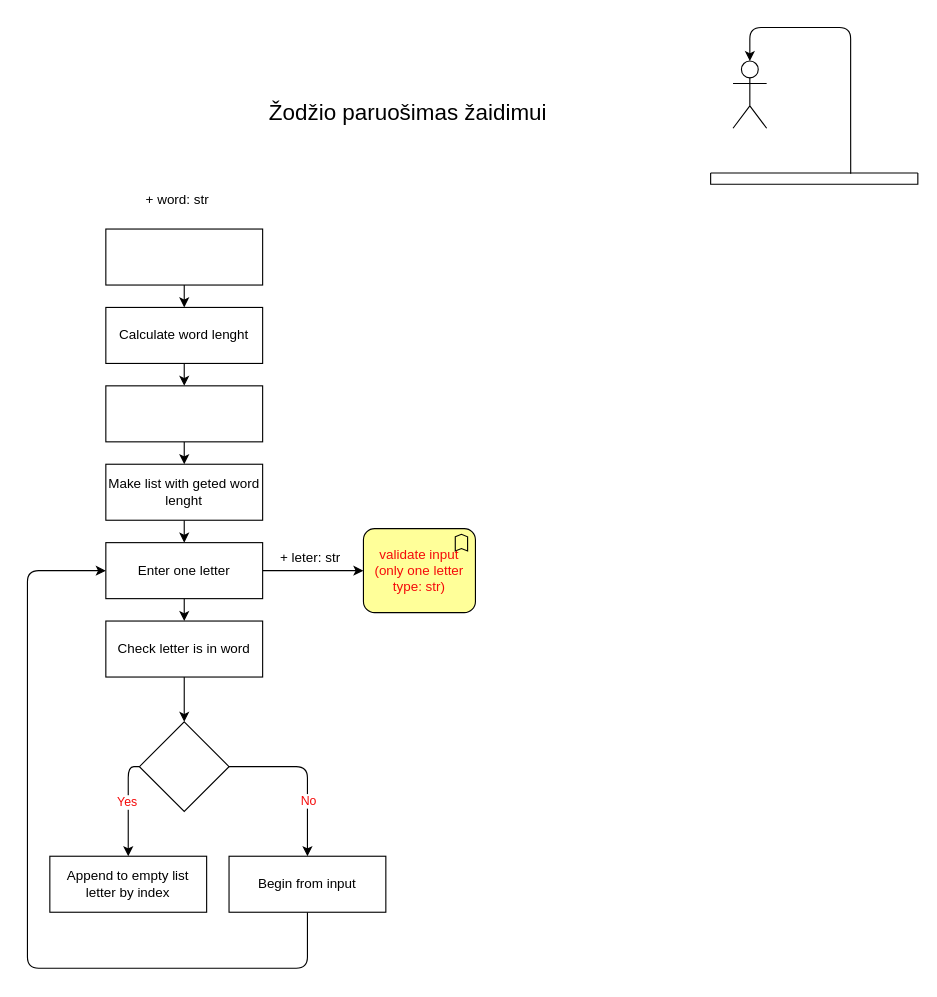
This 937x997 diagram has some shape labels left out. Each missing label, with the centre of its shape:
Actor: (x=749, y=94)
Get word from db: (x=184, y=256)
Split word in list: (x=184, y=413)
